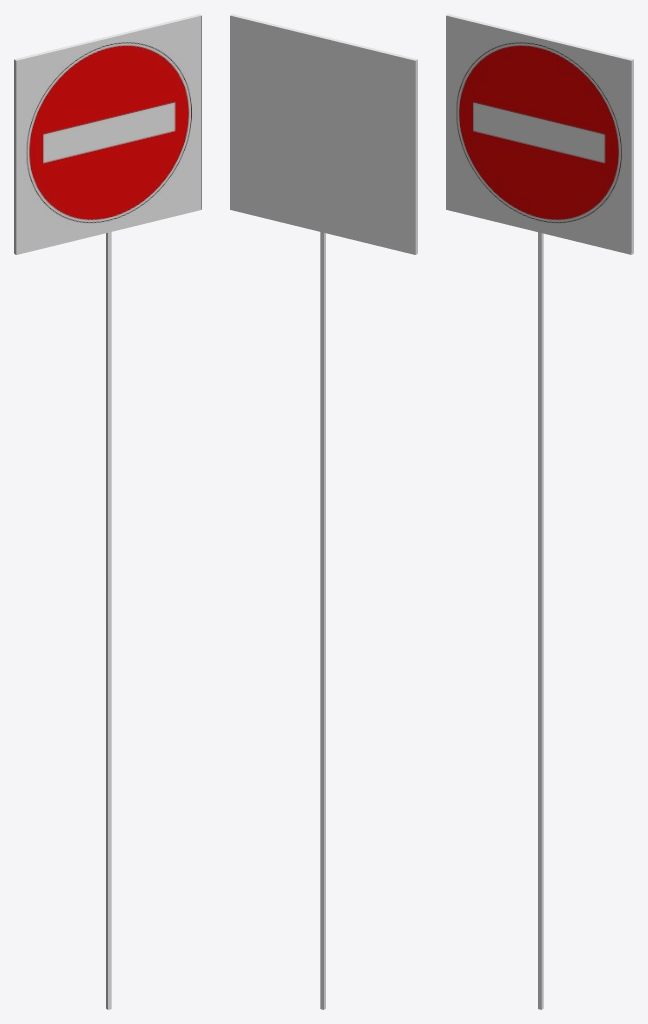
File: trafik_levha_giris_yok.obj
3 renders of one model, left to right at view 1: azimuth 30°, elevation 25°; view 2: azimuth 150°, elevation 25°; view 3: azimuth 330°, elevation 25°, orthographic.
Parts seen in each view (by area): view 1: Mesh4 Group2 Model, Mesh1 Group1 Model, Mesh2 Group3 Group2 Model; view 2: Mesh3 Group2 Model, Mesh1 Group1 Model, Mesh2 Group3 Group2 Model; view 3: Mesh4 Group2 Model, Mesh1 Group1 Model, Mesh2 Group3 Group2 Model.
Part boxes in pixels (box(x1,y1,x2,y2)): Mesh4 Group2 Model: box(16, 16, 201, 254); Mesh1 Group1 Model: box(106, 232, 111, 1009); Mesh2 Group3 Group2 Model: box(14, 14, 201, 254); Mesh3 Group2 Model: box(230, 15, 415, 254); Mesh1 Group1 Model: box(320, 232, 325, 1009); Mesh2 Group3 Group2 Model: box(230, 14, 417, 254); Mesh4 Group2 Model: box(446, 15, 631, 254); Mesh1 Group1 Model: box(538, 232, 543, 1009); Mesh2 Group3 Group2 Model: box(446, 14, 633, 254).
Size of the model in its own units: 500 by 2500 by 10.
Materials: 2 (1 with a texture image).
